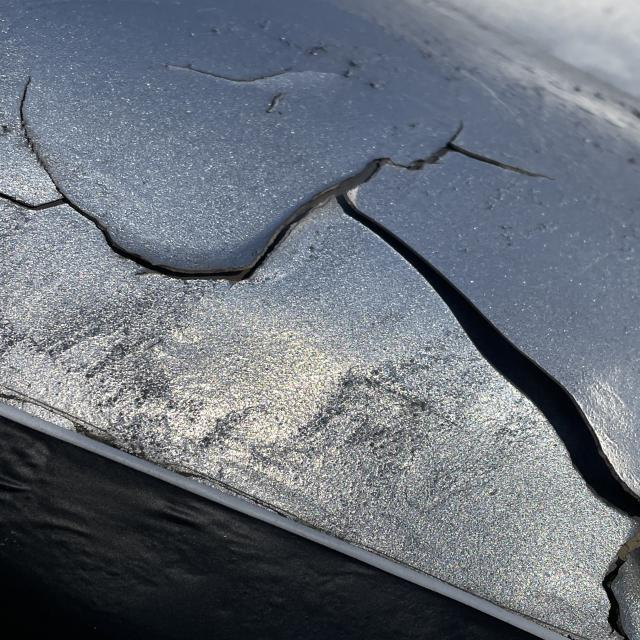crack: (321, 206, 640, 495), (20, 158, 304, 301), (324, 127, 541, 201)
